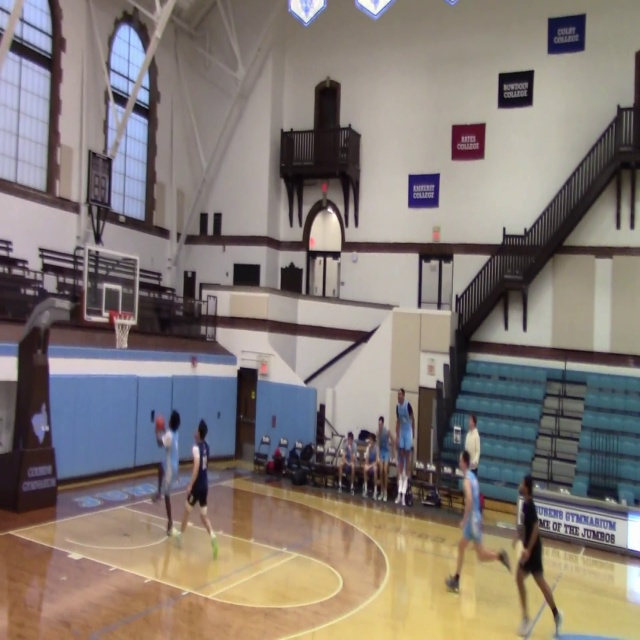Basketball: (162, 431, 173, 447), (155, 416, 165, 431)
